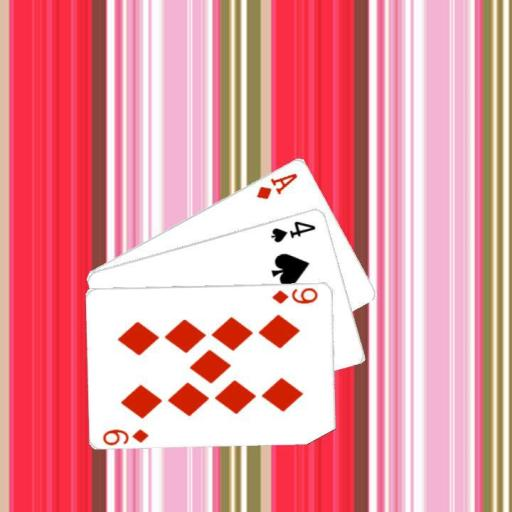4S: (268, 217, 318, 244)
9D: (270, 285, 320, 305), (100, 426, 150, 445)
AD: (254, 169, 300, 201)
